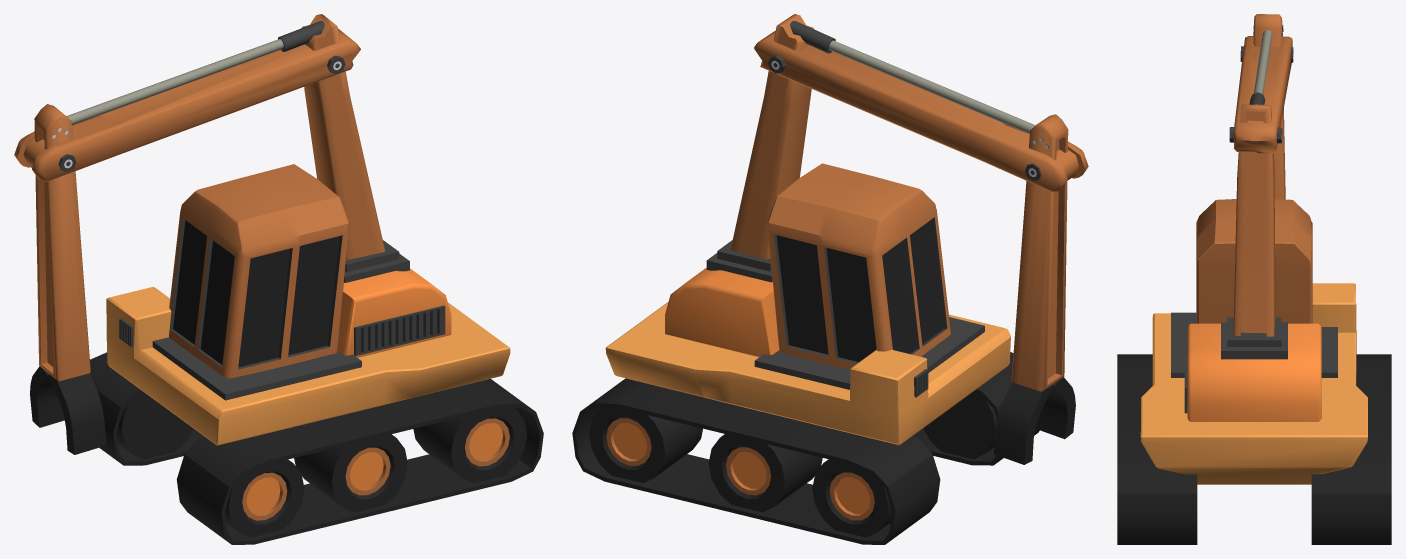
File: Kütük toplayıcı alet.fbx
The picture shows the model from 3 angles, left to right: view 1: azimuth 30°, elevation 25°; view 2: azimuth 150°, elevation 25°; view 3: azimuth 270°, elevation 25°; orthographic projection. The views are drawn at different scales.
Visible parts, largest first — view 1: Cube.022, Cube.025, Cube.026, Cube.012; view 2: Cube.022, Cube.025, Cube.026, Cube.012; view 3: Cube.022, Cube.025, Cube.026.
Boxes of the visible parts, left/top/right/bottom form: Cube.022: left=90, top=164, right=543, bottom=544; Cube.025: left=14, top=14, right=384, bottom=259; Cube.026: left=34, top=104, right=90, bottom=381; Cube.012: left=30, top=366, right=106, bottom=454; Cube.022: left=572, top=163, right=1039, bottom=544; Cube.025: left=730, top=14, right=1088, bottom=259; Cube.026: left=1011, top=114, right=1068, bottom=391; Cube.012: left=994, top=377, right=1075, bottom=464; Cube.022: left=1117, top=199, right=1391, bottom=544; Cube.025: left=1229, top=25, right=1293, bottom=336; Cube.026: left=1253, top=14, right=1285, bottom=199.
Bounding box in the file's own units: 10.37 × 9.81 × 6.3.
